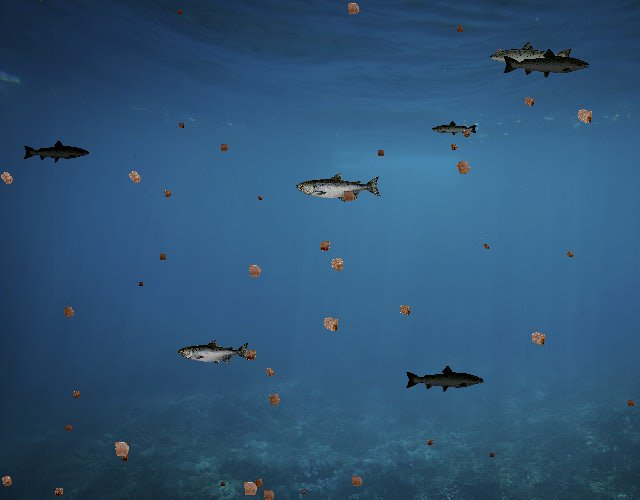Fish: (502, 47, 592, 80), (488, 40, 574, 71), (296, 172, 382, 203), (405, 365, 486, 394), (178, 339, 251, 366), (22, 140, 90, 164), (431, 120, 478, 137)
Pellet: (106, 434, 136, 464), (241, 258, 268, 285), (341, 0, 366, 21), (240, 344, 262, 366), (0, 470, 18, 492), (373, 146, 388, 160), (175, 119, 188, 132)
